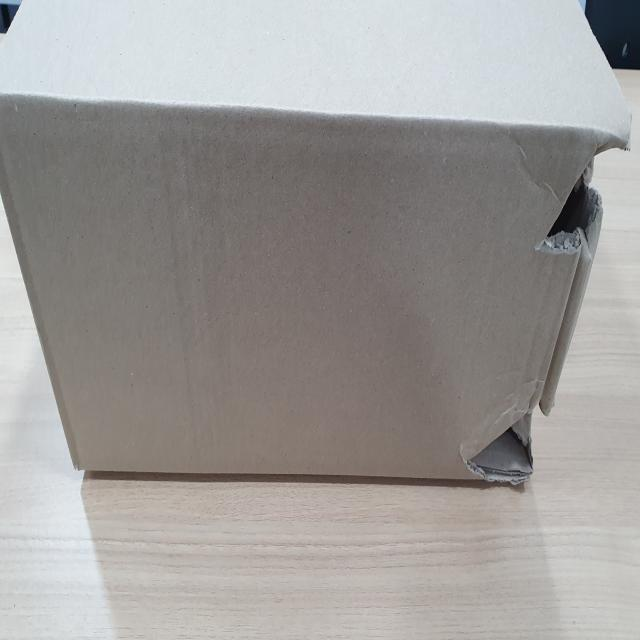hole: (532, 112, 626, 261), (460, 396, 558, 494)
